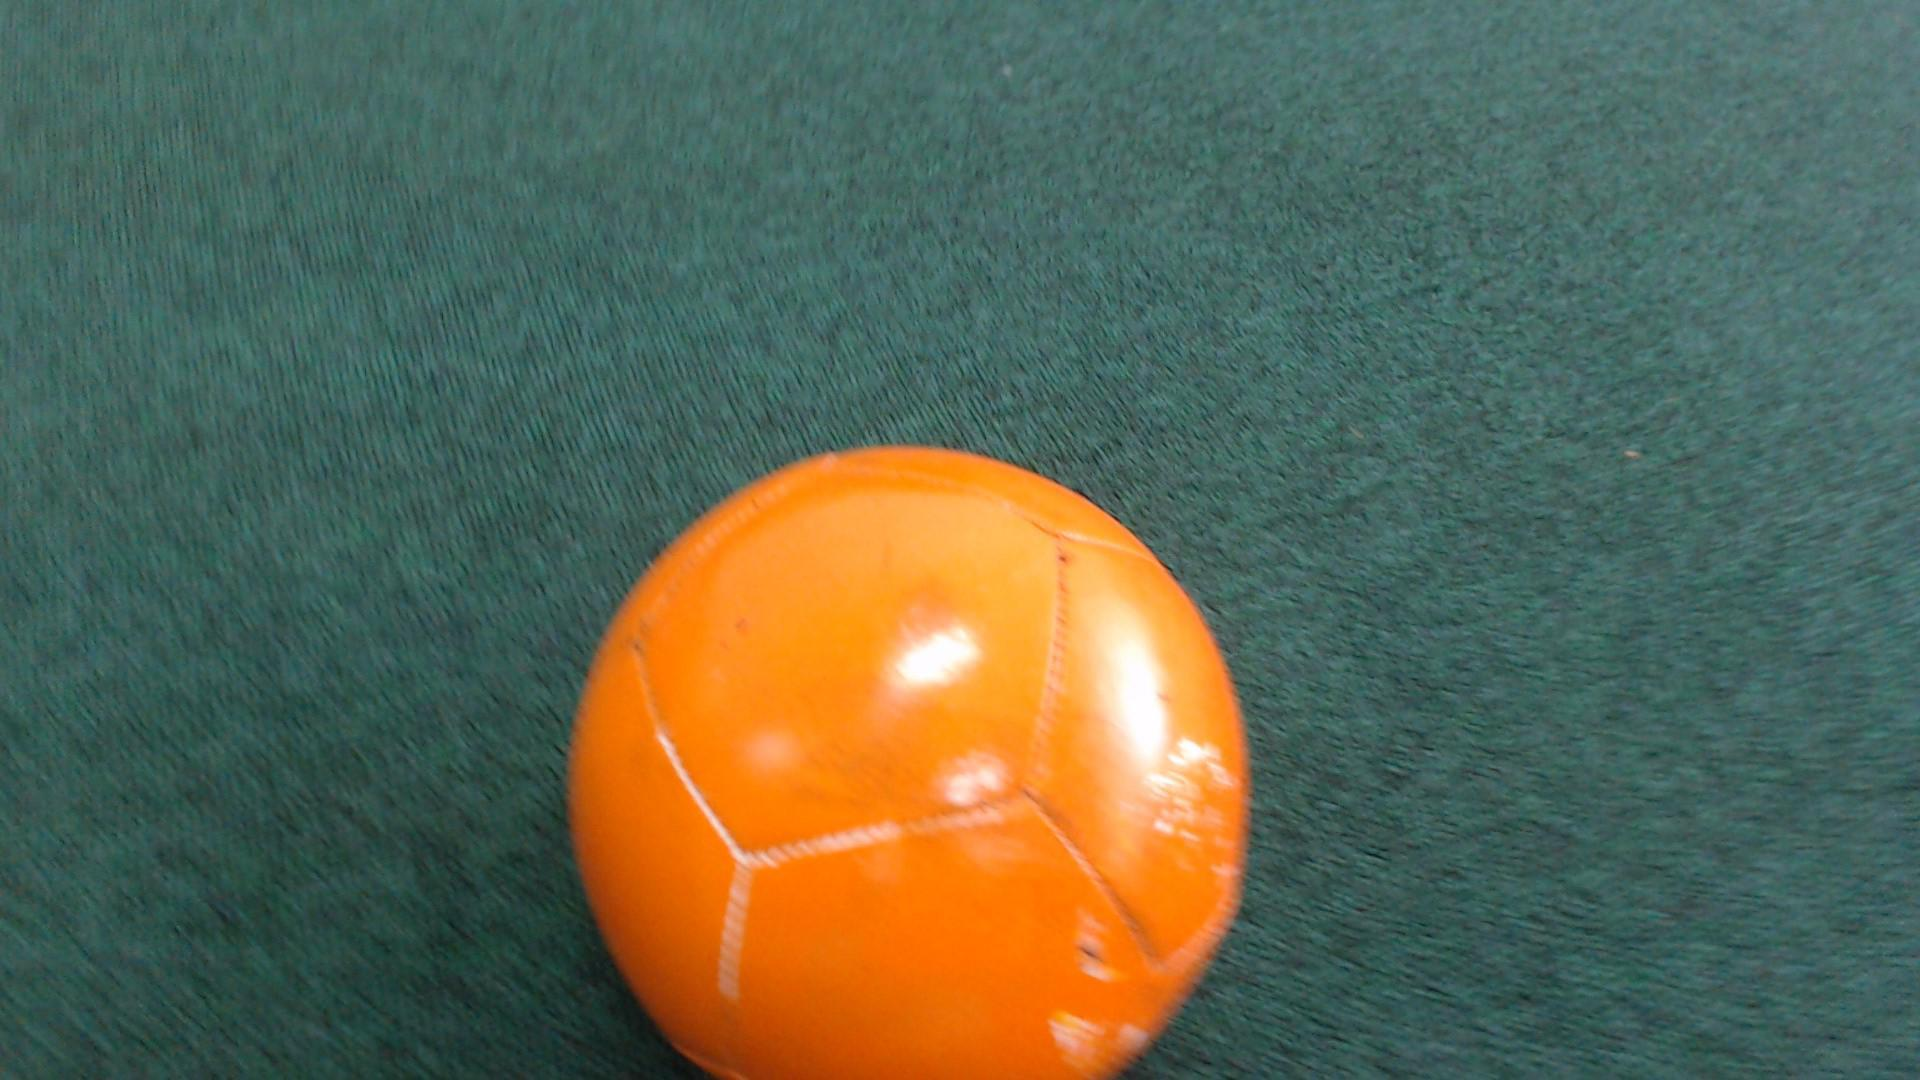bola: (521, 415, 1294, 1079)
